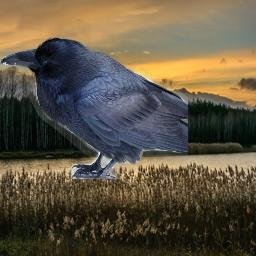Crow: (0, 37, 188, 179)
